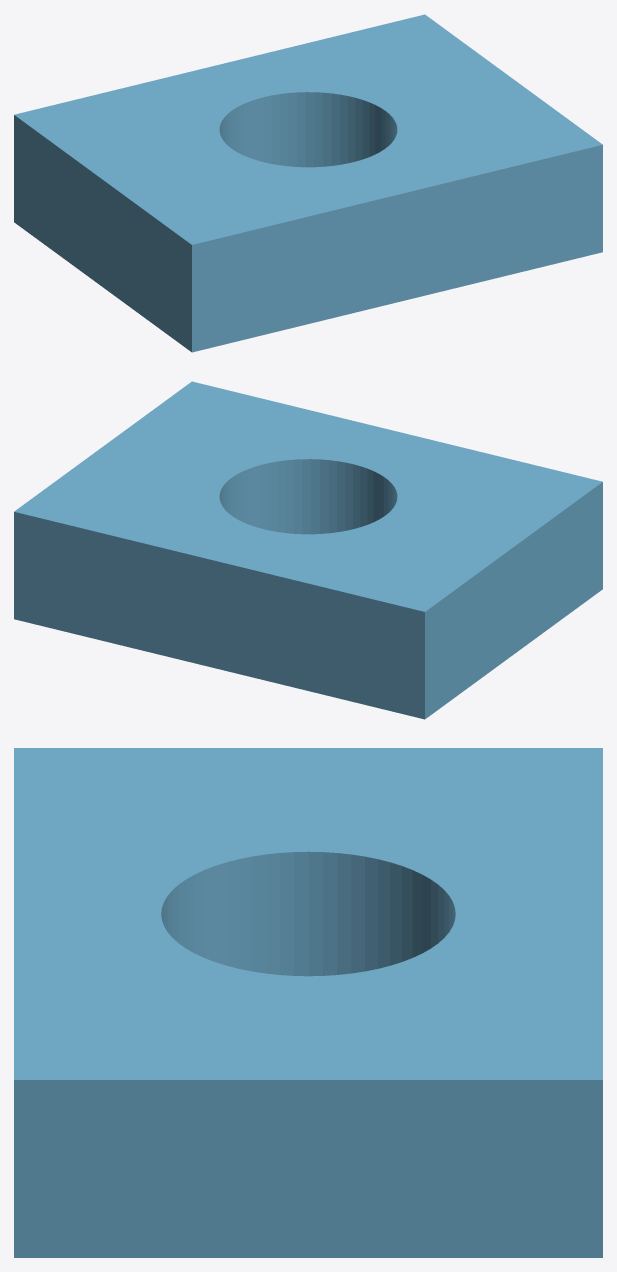
The model's file is modelo.glb.
3 views of the same model, one above another, from view 1: azimuth 30°, elevation 25°; view 2: azimuth 150°, elevation 25°; view 3: azimuth 270°, elevation 25° (orthographic). The views are drawn at different scales.
Parts seen in each view (by area): view 1: Bloque con agujero cilíndrico pasante; view 2: Bloque con agujero cilíndrico pasante; view 3: Bloque con agujero cilíndrico pasante.
Boxes of the visible parts, box(x1,y1,x2,y2) form: Bloque con agujero cilíndrico pasante: box(14, 14, 602, 352); Bloque con agujero cilíndrico pasante: box(14, 381, 602, 719); Bloque con agujero cilíndrico pasante: box(14, 748, 602, 1257).
Bounding box in the file's own units: 0.08 × 0.02 × 0.06.
